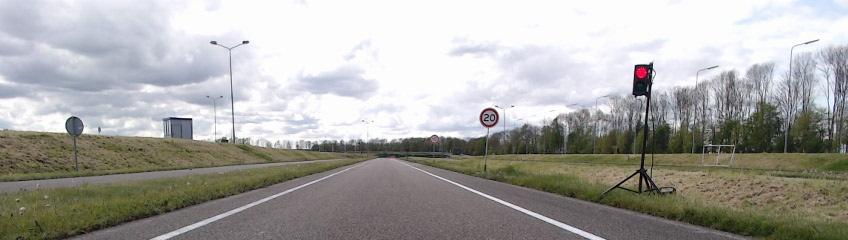Speed-limit-10km-h-: (430, 135, 439, 144)
Speed-limit-20km-h-: (480, 108, 498, 127)
TrafficLight-red: (633, 65, 650, 96)
